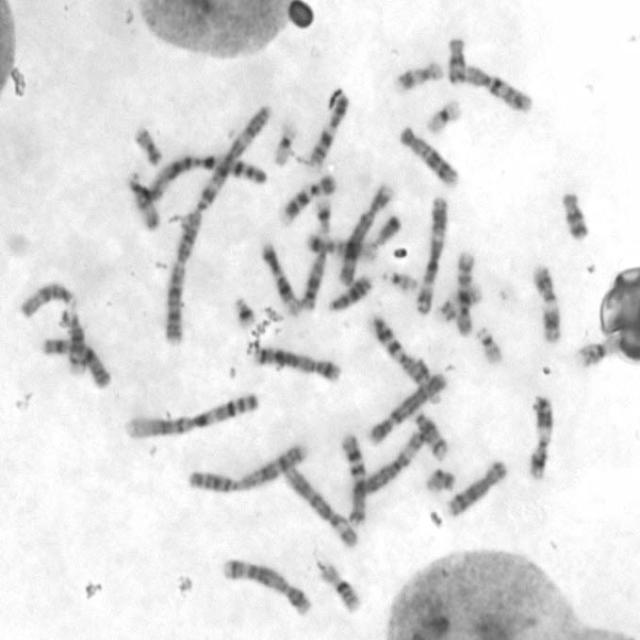A1: (123, 389, 263, 442), (143, 152, 267, 205)
A2: (188, 440, 309, 494), (160, 207, 205, 350)
A3: (195, 102, 273, 210), (414, 195, 448, 316)
B4: (335, 182, 397, 288), (364, 372, 448, 448)
B5: (220, 557, 313, 618), (254, 346, 343, 383)
C10: (465, 63, 534, 115), (453, 252, 477, 338)
C11: (528, 263, 562, 344), (527, 396, 554, 482)
C12: (259, 242, 303, 318), (302, 230, 380, 264)
C6: (281, 464, 360, 550), (351, 430, 425, 498)
C7: (368, 312, 431, 385), (339, 434, 368, 526)
C8: (445, 459, 510, 520), (400, 125, 459, 187)
C9: (307, 92, 350, 168), (279, 174, 339, 223)
D13: (326, 275, 374, 312), (300, 249, 328, 310)
D14: (58, 312, 88, 381), (413, 410, 448, 462)
D15: (20, 279, 78, 320), (126, 171, 162, 233)
E16: (318, 560, 363, 614), (571, 331, 622, 370)
E17: (434, 280, 484, 324), (395, 60, 445, 94)
E18: (561, 188, 590, 242), (446, 36, 467, 84)
F19: (270, 121, 300, 169), (427, 99, 463, 135)
F20: (132, 126, 163, 168), (424, 467, 456, 494)
G21: (233, 297, 258, 329), (313, 198, 334, 235)
G22: (475, 326, 505, 365), (379, 268, 418, 295)
X: (43, 336, 114, 392)
Y: (374, 213, 404, 246)
